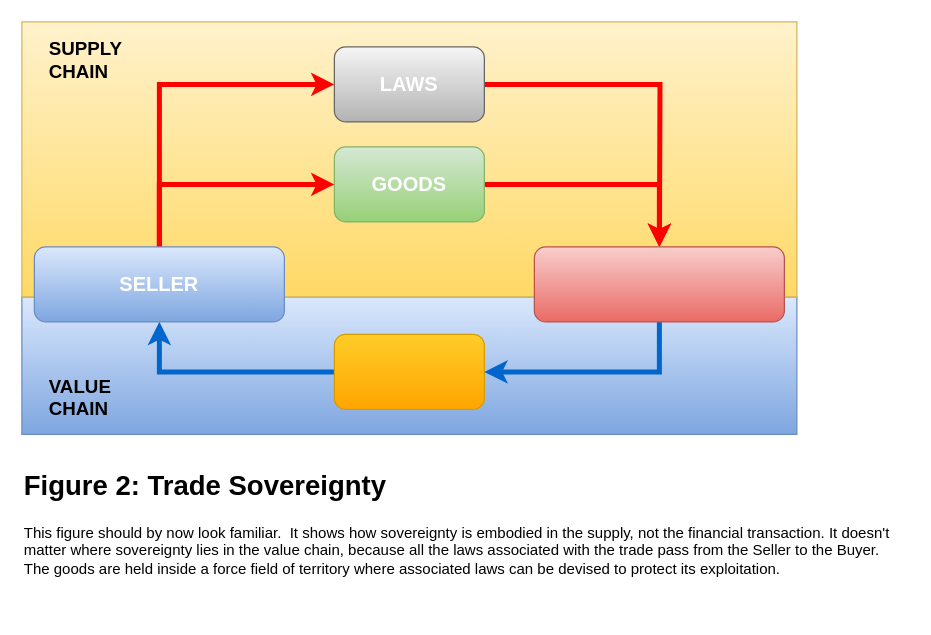
Image size: 931x635. Some labels were removed from this diagram. The centre of each missing label's shape, as x and y in pixels:
"BUYER" goes at pixel 658 284.
"CASH" goes at pixel 408 371.
